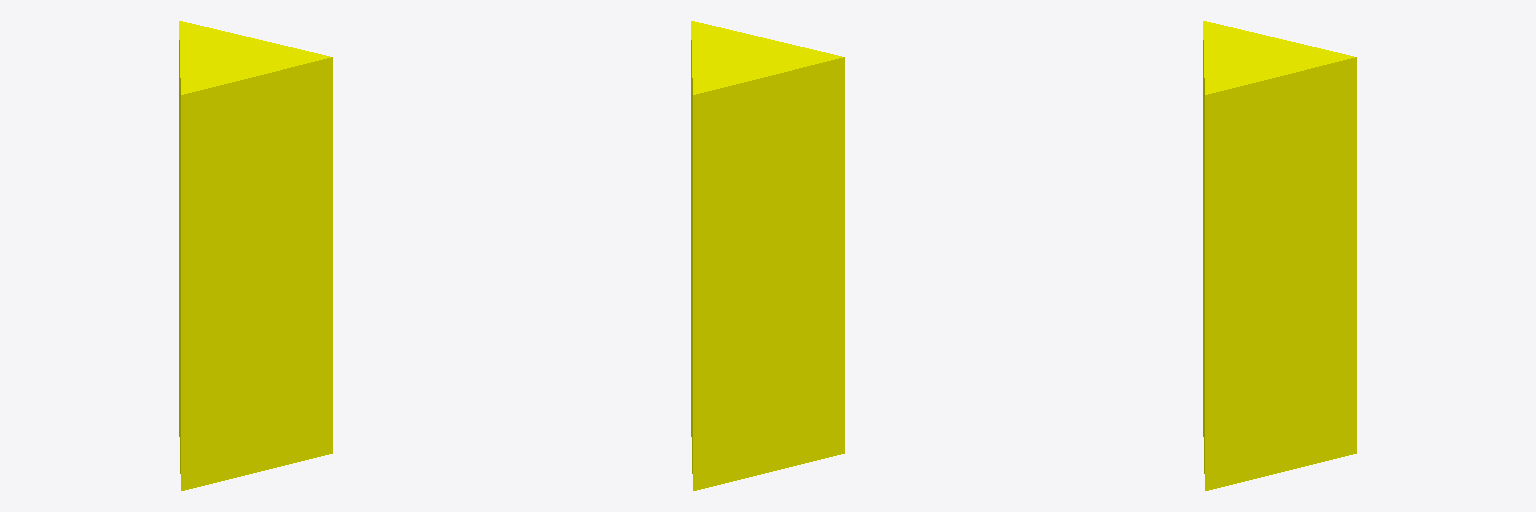
URDF robot description (objects):
<?xml  version="1.0"?>
<robot name ="objects"> 
    <!-- Author: [author]; e-mail:[email redacted]. The urdf file was develped in tongji university.-->

    <!--create  color params-->
    <material name ="LightGrey">
        <color rgba="0.7 0.7 0.7 1.0"/>
    </material>

    <material name ="White">
        <color rgba="1 1 1 1.0"/>
    </material>

    <material name ="Green">
        <color rgba="0.1 0. 1.0 1.0"/>
    </material>

    <material name ="Yellow">
        <color rgba="1. 1. 0. 1.0"/>
    </material>

    <material name ="Orange">
        <color rgba="1. 0.38 0. 1.0"/>
    </material>

    <material name ="Blue">
        <color rgba="0.69 0.87 0.9 1.0"/>
    </material>

    <mass name ="table_mass">
        <mass value="1.0"/>
    </mass>

    <mass name ="cylander_mass">
        <mass value="2.0"/>
    </mass>



    <link  name ="World"/>

    <joint name="cylinder1_to_world" type="floating">
        <parent link="World"/>
        <child link="cylinder1"/>
        <origin xyz="0. 0. 0." rpy="0.0 0.0 0.0"/>
    </joint>

    <link name = "cylinder1">
        <contact>
            <lateral_friction value="0.05"/>
            <rolling_friction value="0.0"/>
            <contact_erp value="1.0"/>
        </contact>
        <visual>
            <origin  xyz="0.0 0.0 0.0" rpy="0.0 0.0 0.0"/>
            <geometry>
                <mesh filename = "meshes/triangle.stl"/>
            </geometry >
            <material name ="Yellow"/>
        </visual>
        <collision>
            <origin xyz="0.0 0.0 0.0" rpy="0.0 0.0 0.0"/>
            <geometry>
                <mesh filename ="meshes/triangle.stl"/>
            </geometry>
        </collision>
        <inertial>
            <mass value = "0.5"/>
            <inertia ixx="1" ixy="0.0" ixz="0.0" iyy="1" iyz="0.0" izz="1"/>
        </inertial>
    </link>
</robot>

--- Facts derived from the render (not from the file) ---
3 views of the same robot in one strip: view 1: azimuth 30°, elevation 25°; view 2: azimuth 150°, elevation 25°; view 3: azimuth 270°, elevation 25° (orthographic).
Robot: objects — 2 links, 1 joints (1 floating); root link World; default pose: all joints at 0.
Links seen in each view (by area): view 1: cylinder1; view 2: cylinder1; view 3: cylinder1.
Boxes of the visible links, x1=… form: cylinder1: x1=179, y1=21, x2=332, y2=490; cylinder1: x1=691, y1=21, x2=844, y2=490; cylinder1: x1=1203, y1=21, x2=1356, y2=490.
Bounding box of the posed robot: 0.1212 × 0.1057 × 0.3 m (x, y, z).
1 mesh visuals loaded from 1 distinct referenced files (1 binary STL).